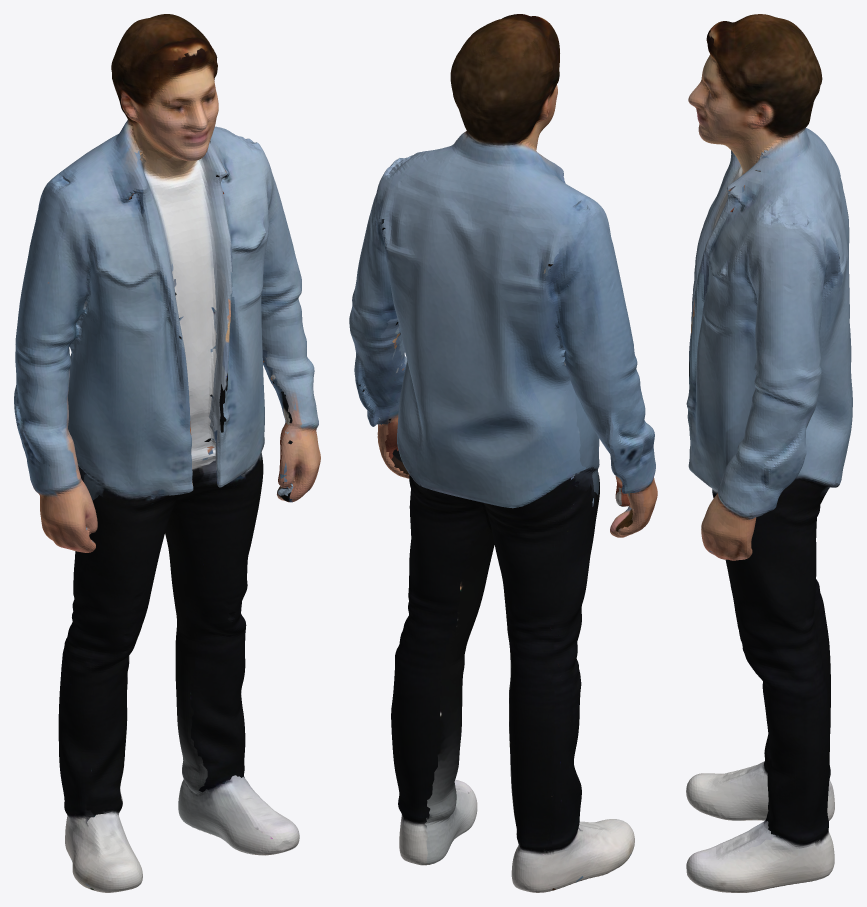
File: photoreal_denim_guy.glb
The picture shows the model from 3 angles, left to right: view 1: azimuth 30°, elevation 25°; view 2: azimuth 150°, elevation 25°; view 3: azimuth 270°, elevation 25°; orthographic projection.
Visible parts, largest first — view 1: tmp9znc1uan.ply; view 2: tmp9znc1uan.ply; view 3: tmp9znc1uan.ply.
Boxes of the visible parts, x1,y1,x2,y2 form: tmp9znc1uan.ply: (14, 14, 320, 892); tmp9znc1uan.ply: (349, 14, 657, 892); tmp9znc1uan.ply: (686, 14, 852, 892).
Size of the model in its own units: 0.6375 by 1.78 by 0.3267.
1 material, 1 textured.
